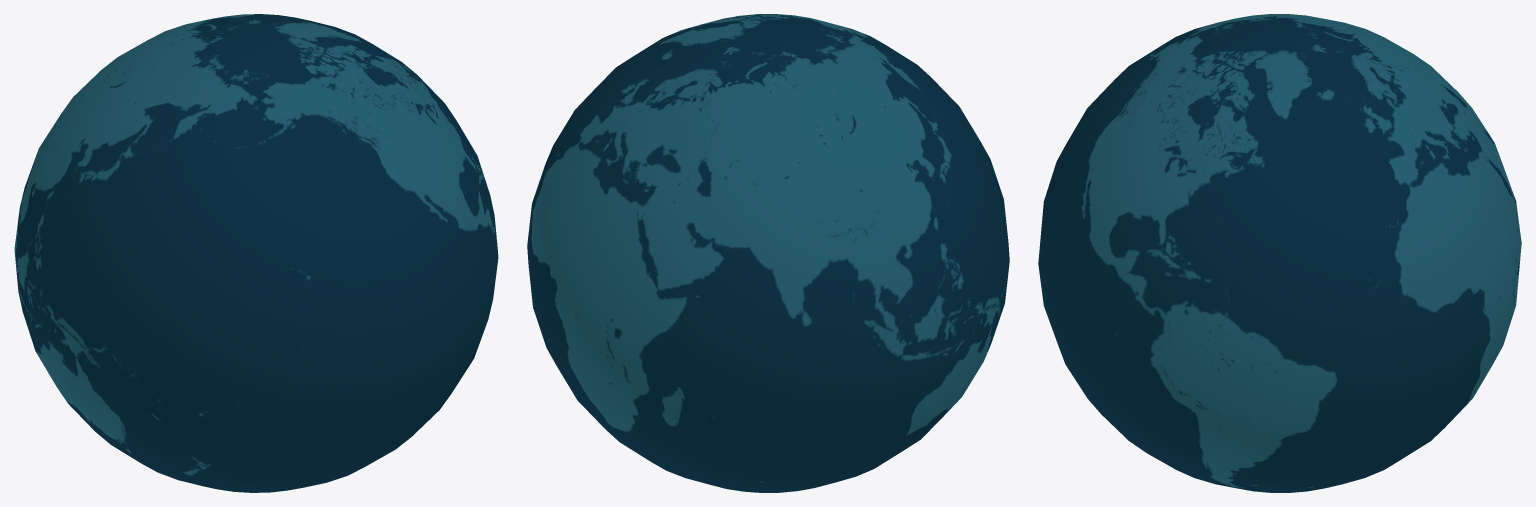
File: globe.gltf
3 views of the same model, side by side, from view 1: azimuth 30°, elevation 25°; view 2: azimuth 150°, elevation 25°; view 3: azimuth 270°, elevation 25° (orthographic).
Visible parts, largest first — view 1: Sphere; view 2: Sphere; view 3: Sphere.
Boxes of the visible parts, x1=… form: Sphere: x1=14, y1=14, x2=498, y2=492; Sphere: x1=527, y1=14, x2=1009, y2=492; Sphere: x1=1038, y1=14, x2=1521, y2=492.
Bounding box in the file's own units: 2.63 × 2.6 × 2.63.
